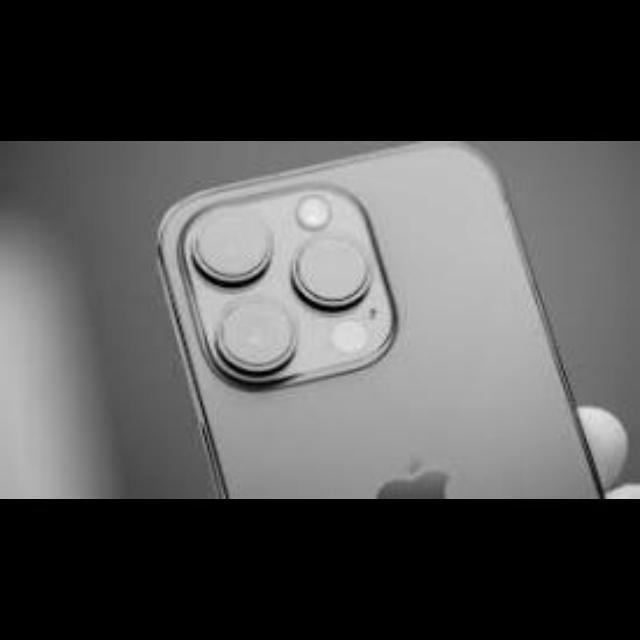fake: (102, 150, 638, 500)
